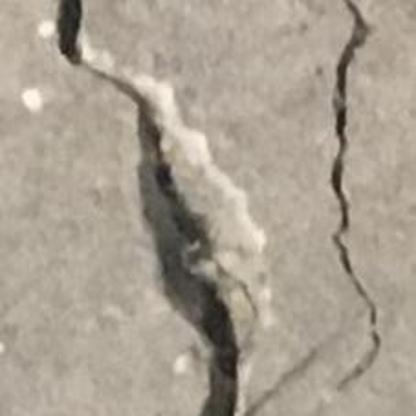SurfaceCrack: (43, 0, 269, 416), (329, 0, 382, 408)
